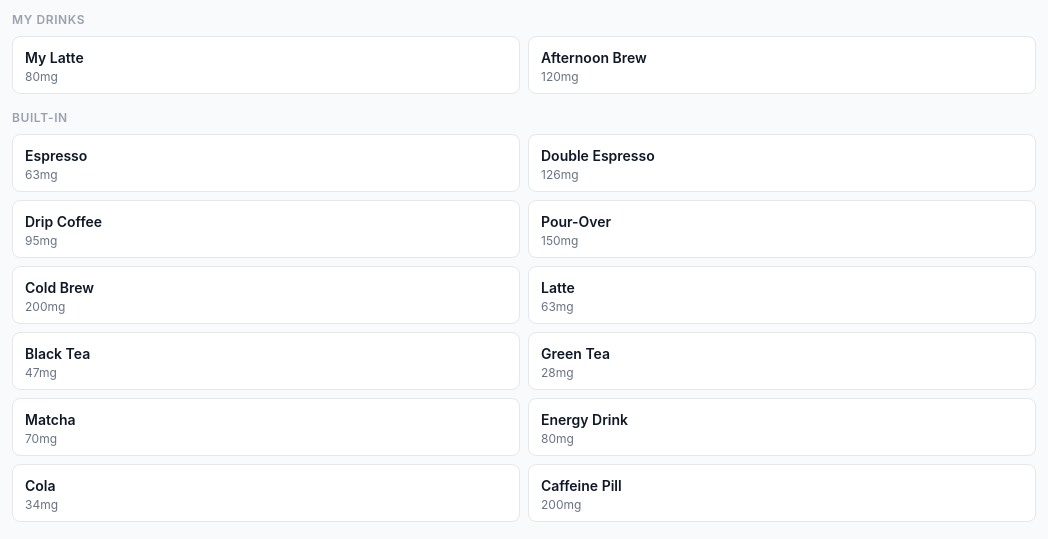
Scenario: DrinkPresets › with custom presets › confirmation flash works for custom presets
# Two taps: select then confirm
Step 1. Click the text "Afternoon Brew" → click(594, 58), box [541,49,647,66]
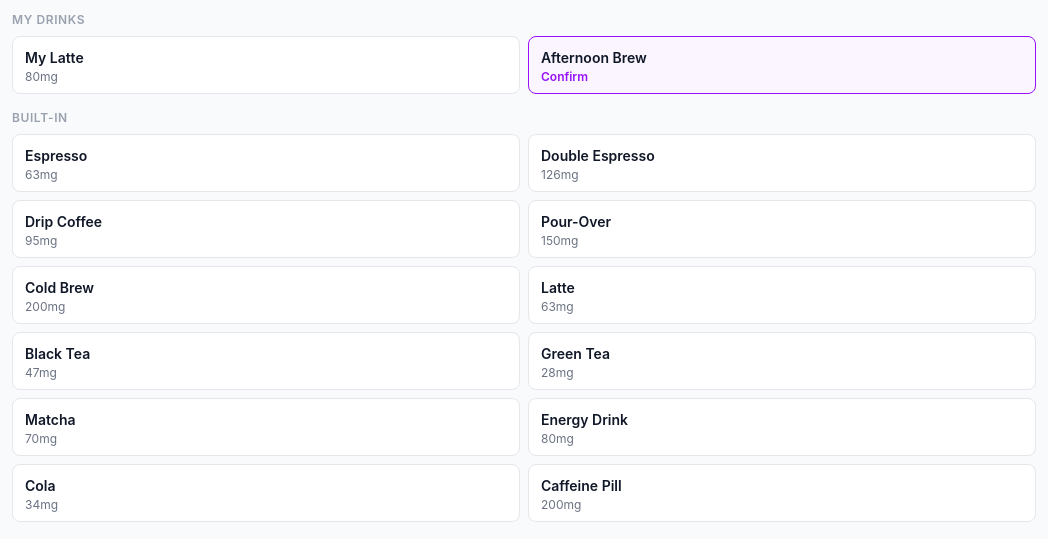
Step 2. Click the text "Afternoon Brew" → click(594, 58), box [541,49,647,66]
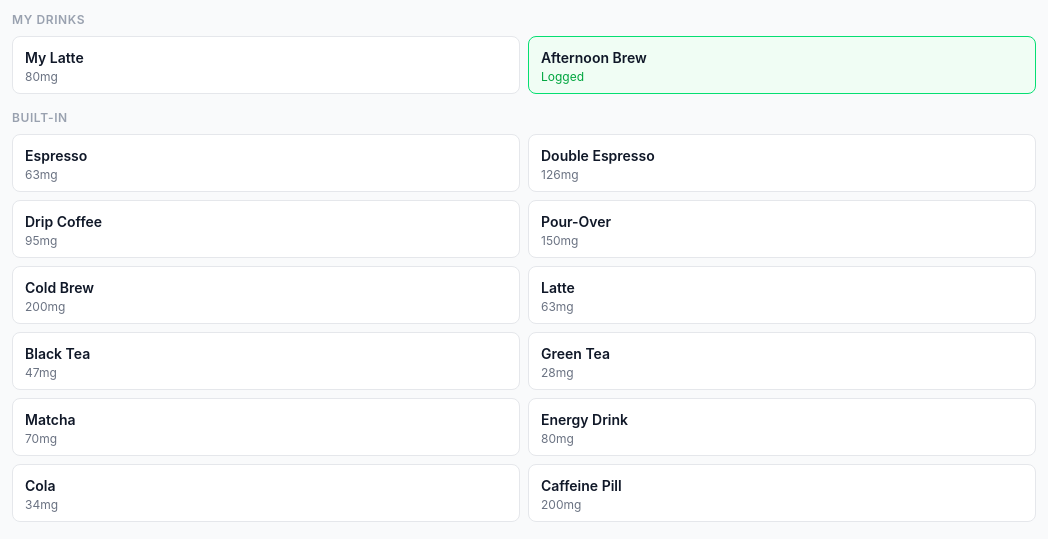
Now the text "Logged" is shown, box [541,69,584,84]
